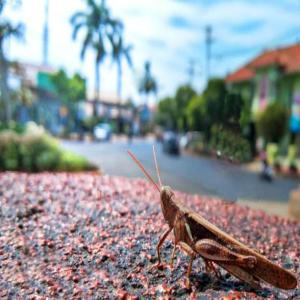locust: (131, 146, 300, 298)
